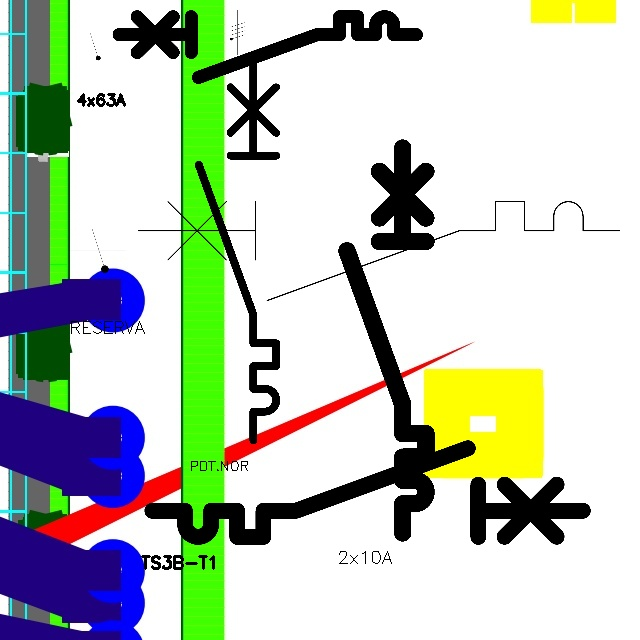interruptor_termomagnetico: (126, 189, 631, 312), (141, 437, 594, 548), (337, 138, 436, 543), (189, 54, 286, 449), (111, 9, 423, 85)
